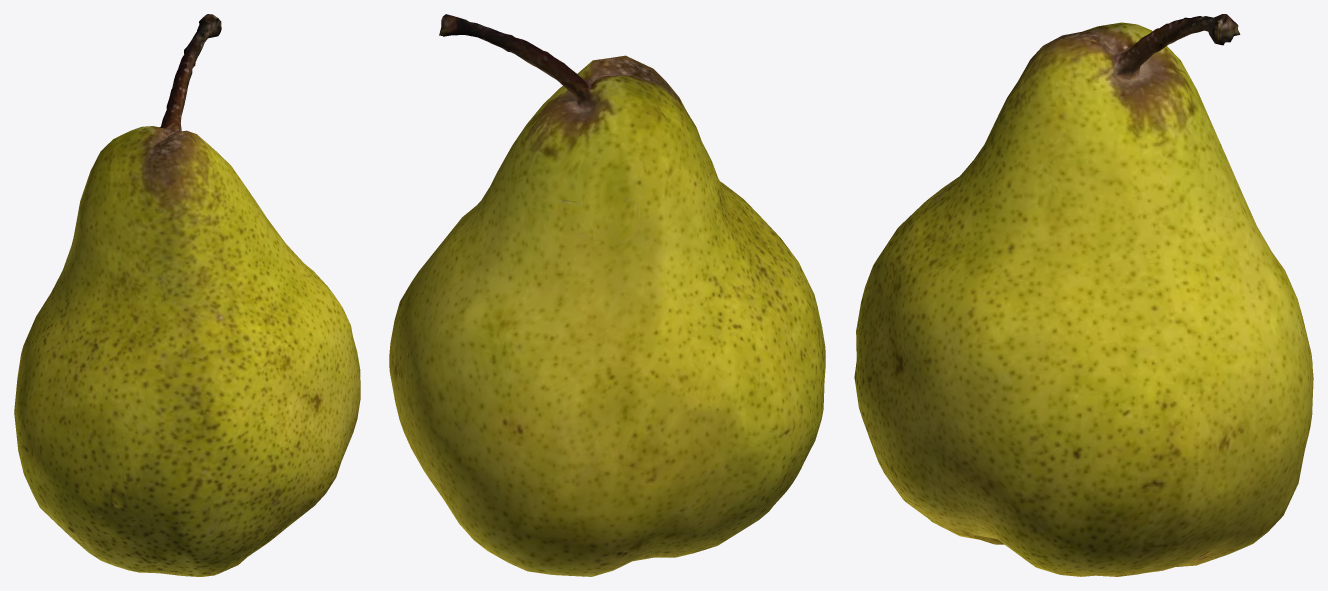
The model's file is pear.glb.
3 renders of one model, left to right at view 1: azimuth 30°, elevation 25°; view 2: azimuth 150°, elevation 25°; view 3: azimuth 270°, elevation 25°, orthographic. The views are drawn at different scales.
Visible parts, largest first — view 1: defaultMaterial; view 2: defaultMaterial; view 3: defaultMaterial.
Part boxes in pixels (bbox=[...]): defaultMaterial: bbox=[14, 14, 360, 576]; defaultMaterial: bbox=[389, 14, 825, 576]; defaultMaterial: bbox=[854, 14, 1313, 576].
Bounding box in the file's own units: 0.0675 × 0.095 × 0.0669.
1 material, 1 textured.
